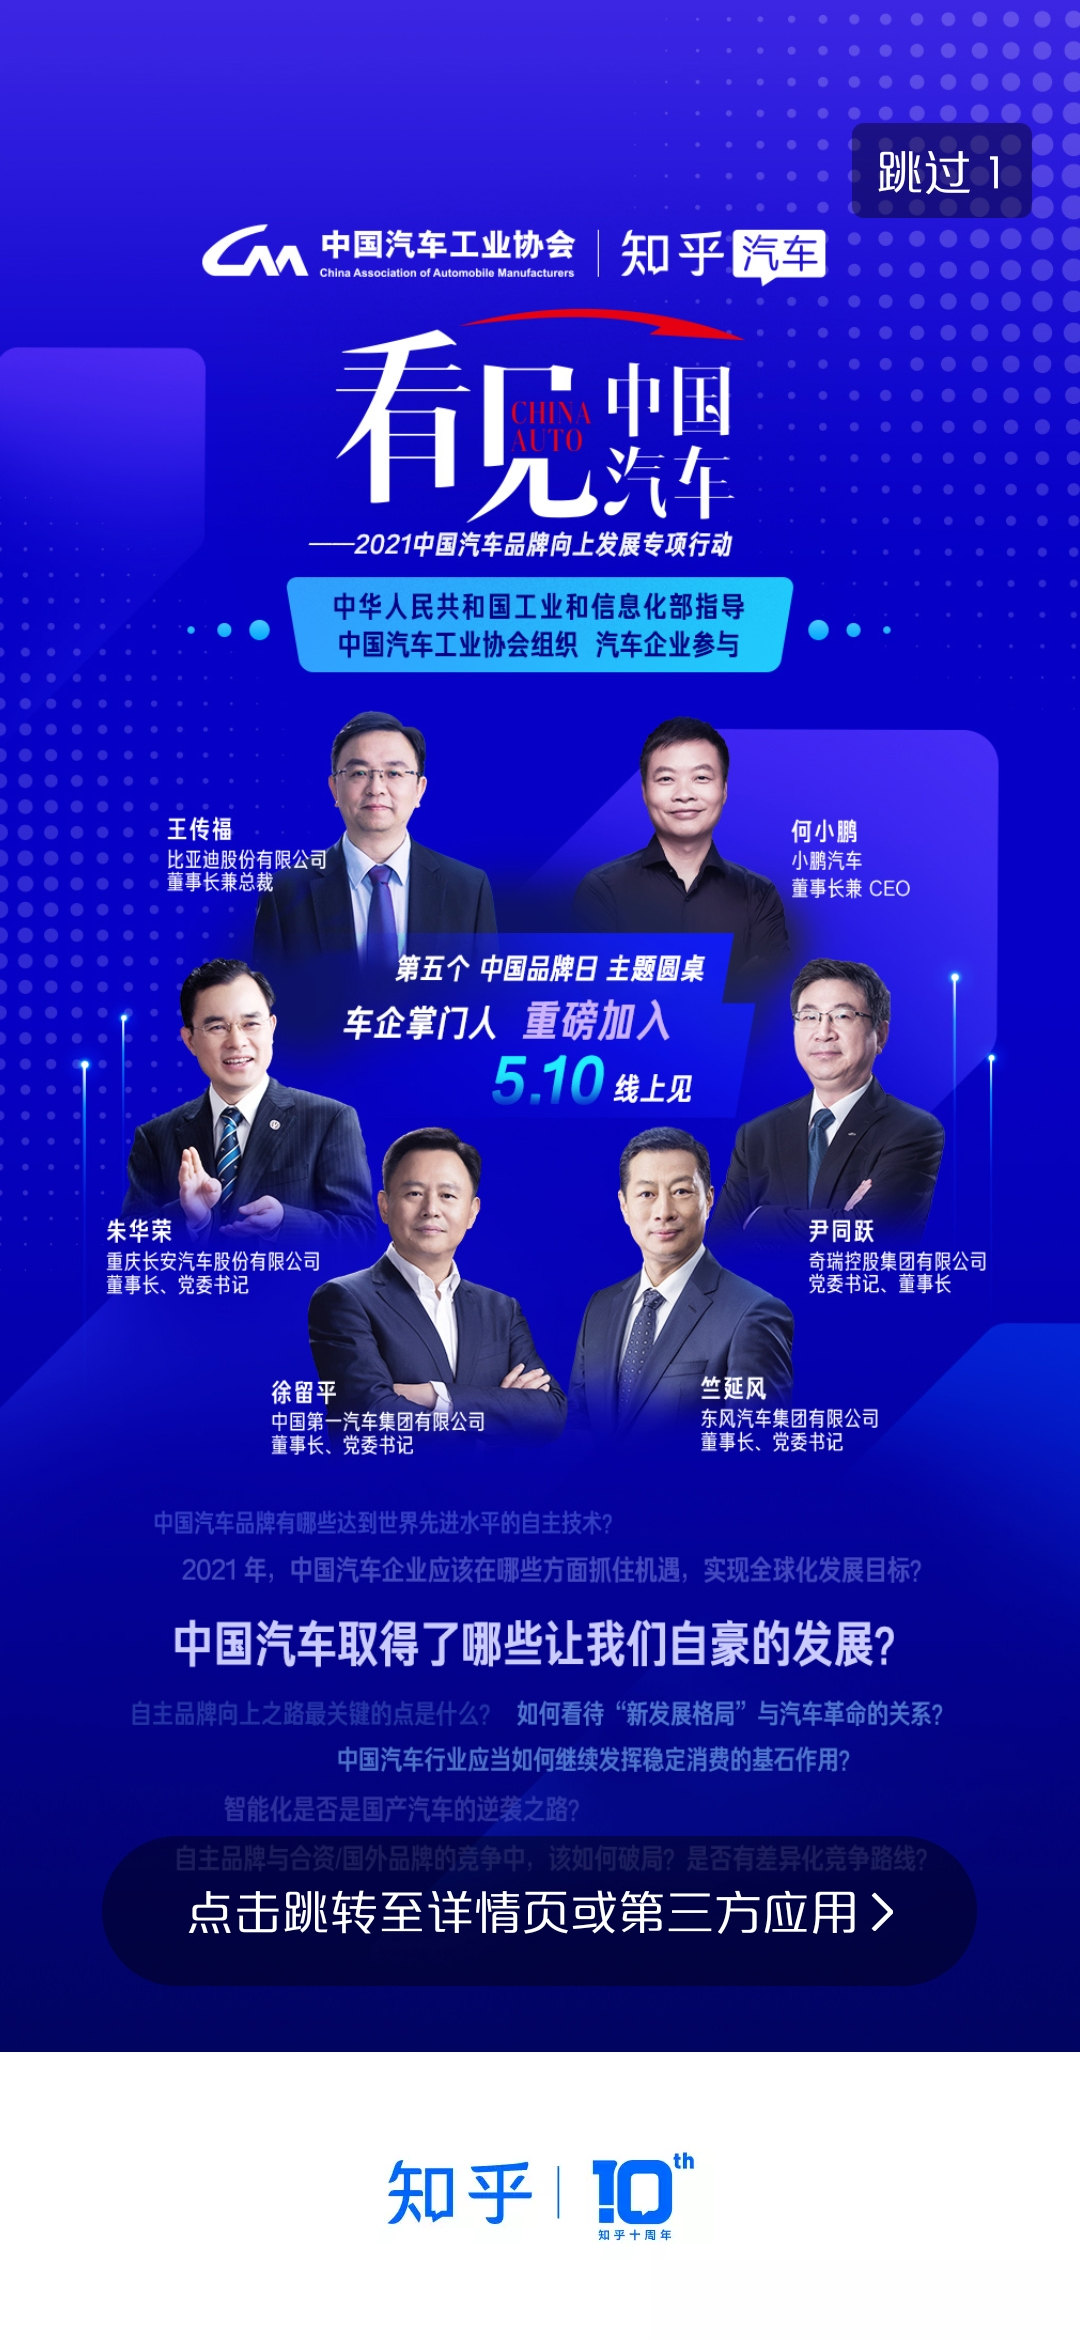skip: (865, 133, 1020, 213)
